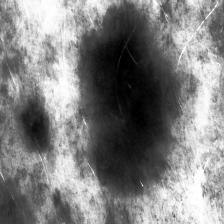Benign Marking or Mole: (76, 4, 192, 186), (20, 103, 54, 150)
